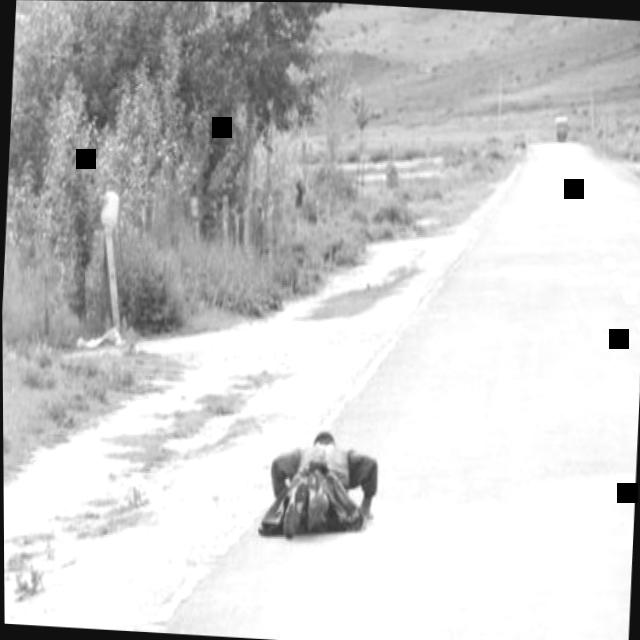Fall-Detected: (254, 407, 391, 553)
